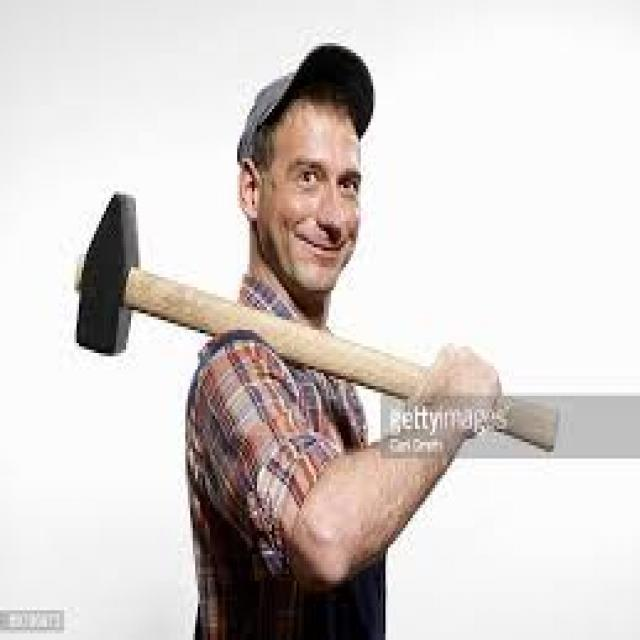hammer: (63, 188, 566, 458)
